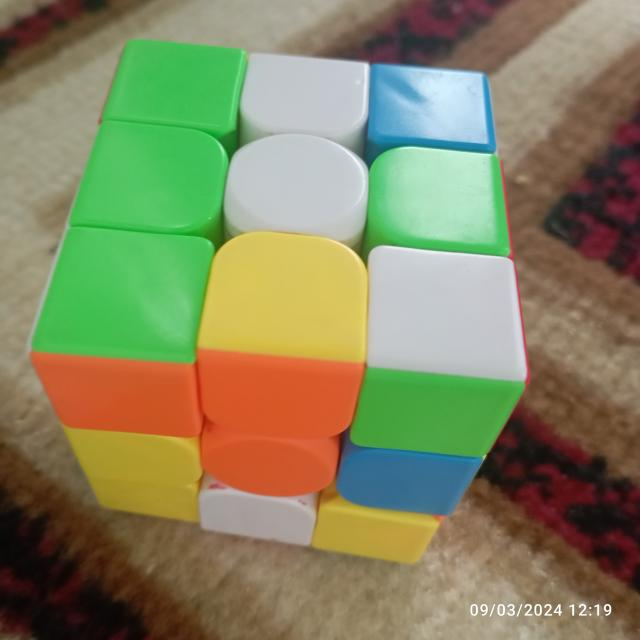Rub: (18, 31, 534, 570)
